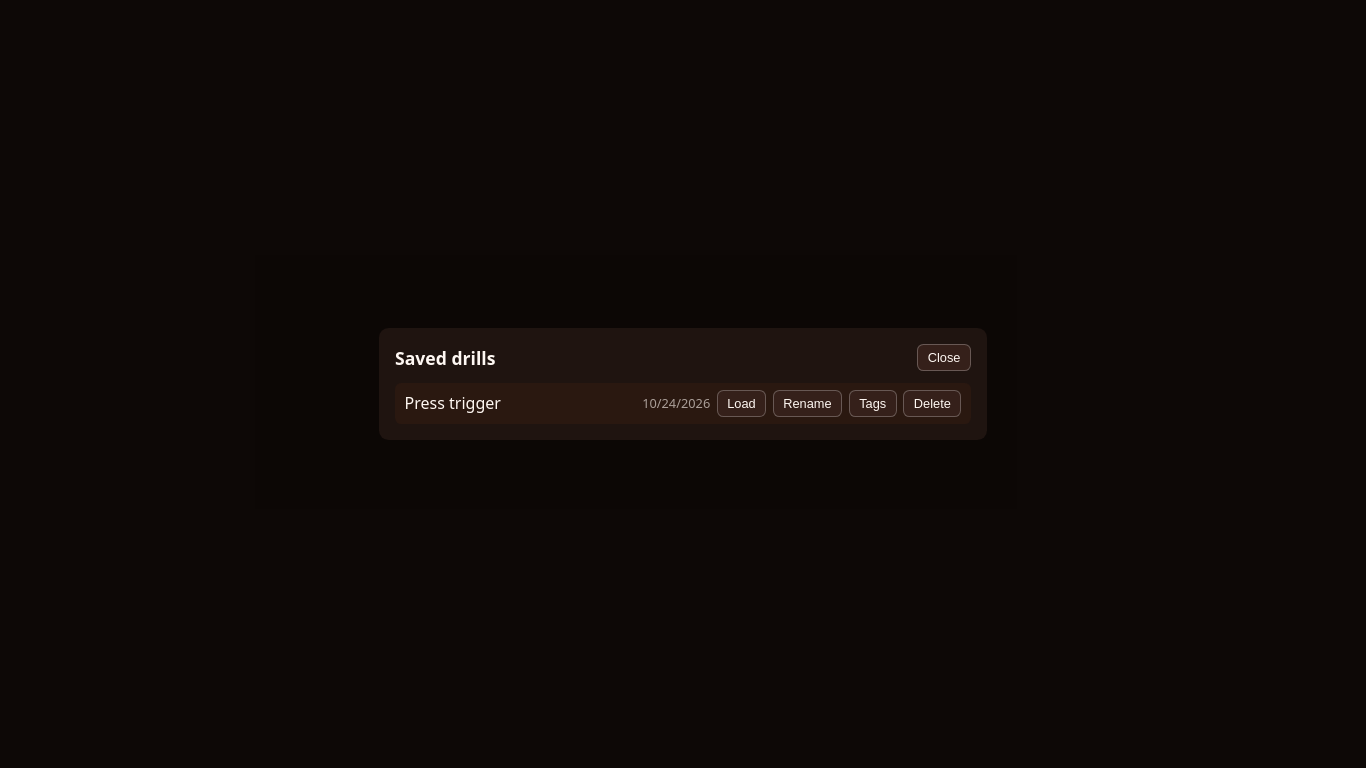
Test case: renaming › saves the new name
This screenshot has width=1366, height=768.
Click the button "Rename" at (808, 403), box [773,390,842,417]
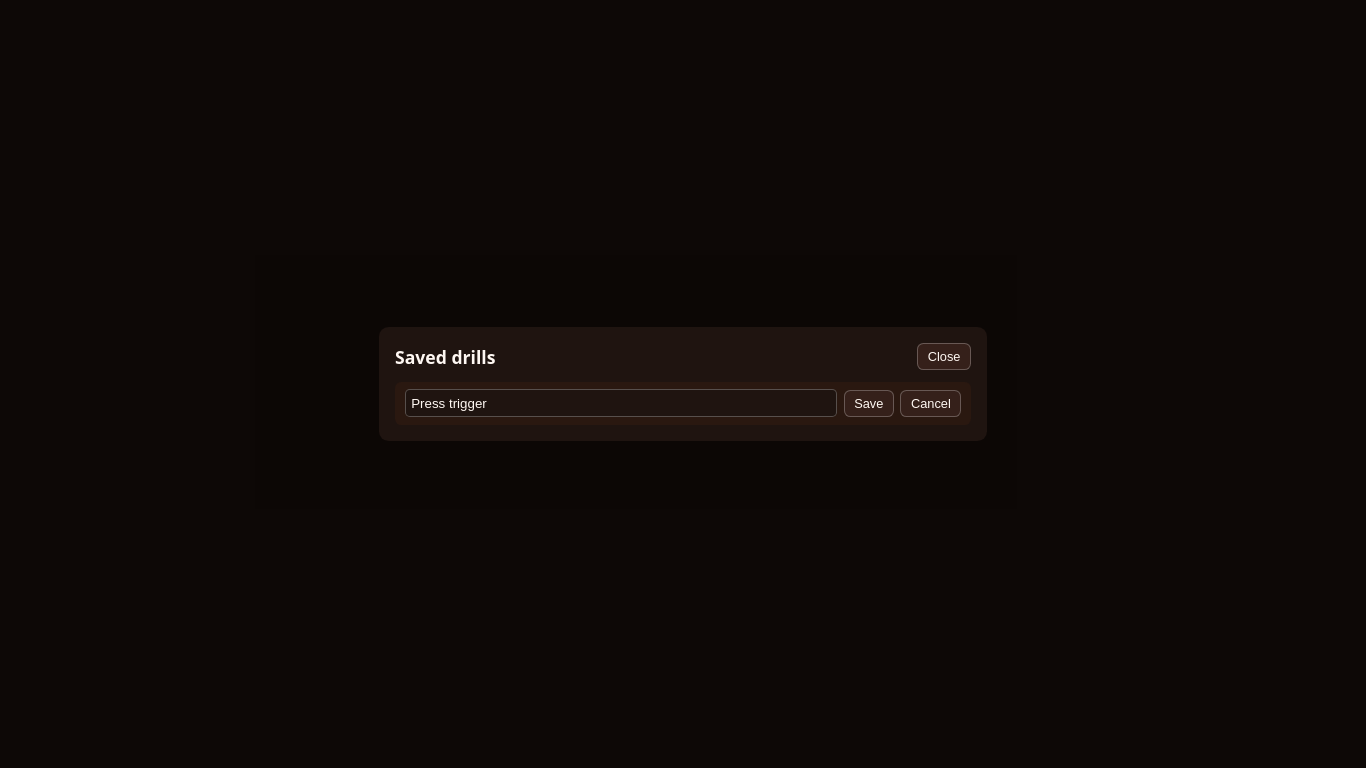
Replace the text in the field with "Counter press" at (621, 403), box [405,389,837,417]
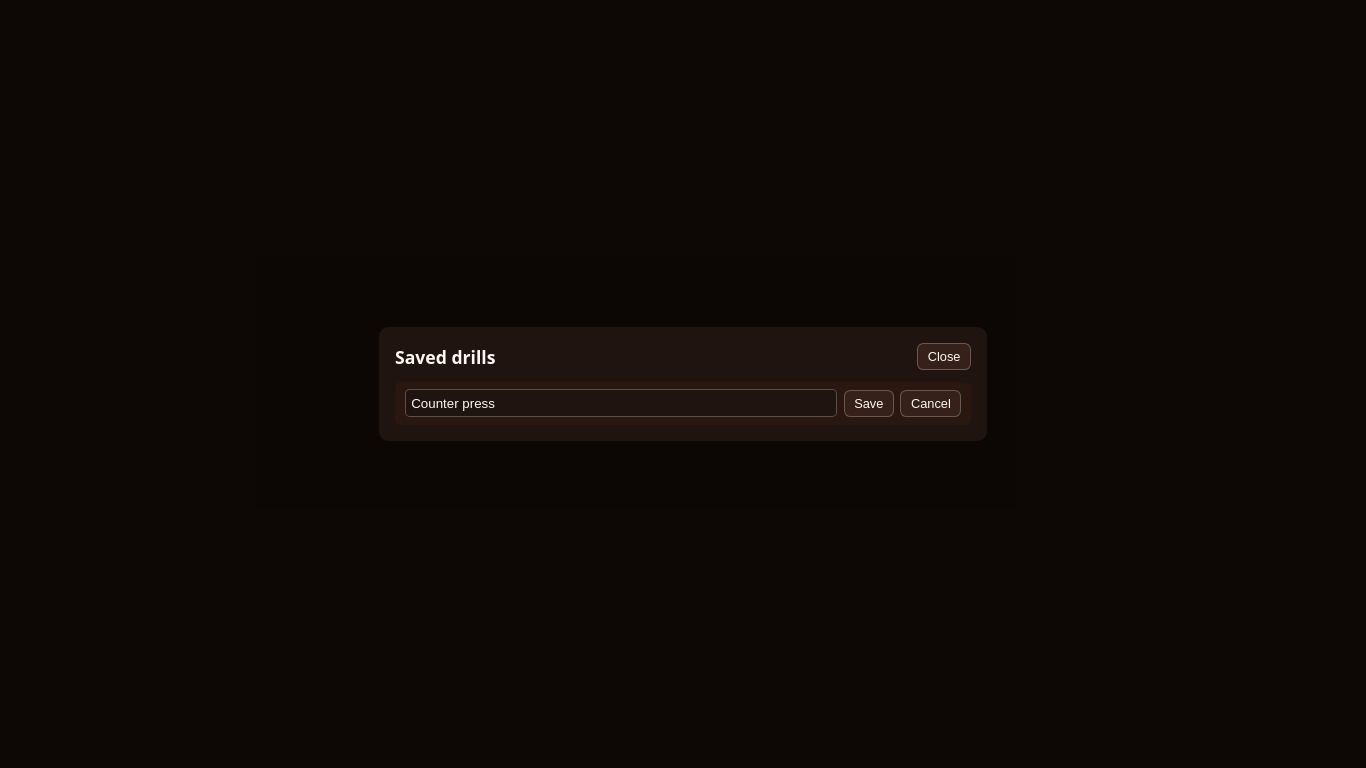
Click the button "Save" at (869, 403), box [844,390,894,417]
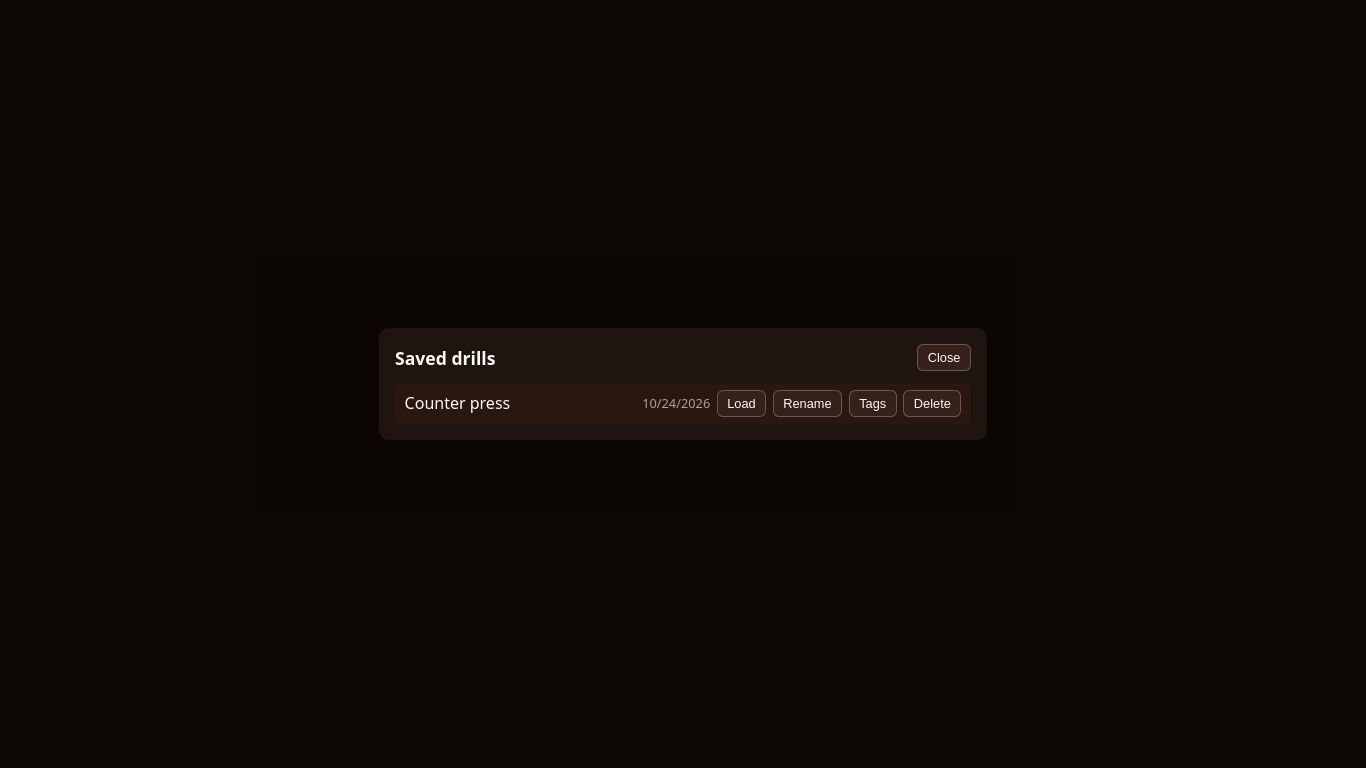
Now the text "Counter press" is shown, box [405,392,510,414]
